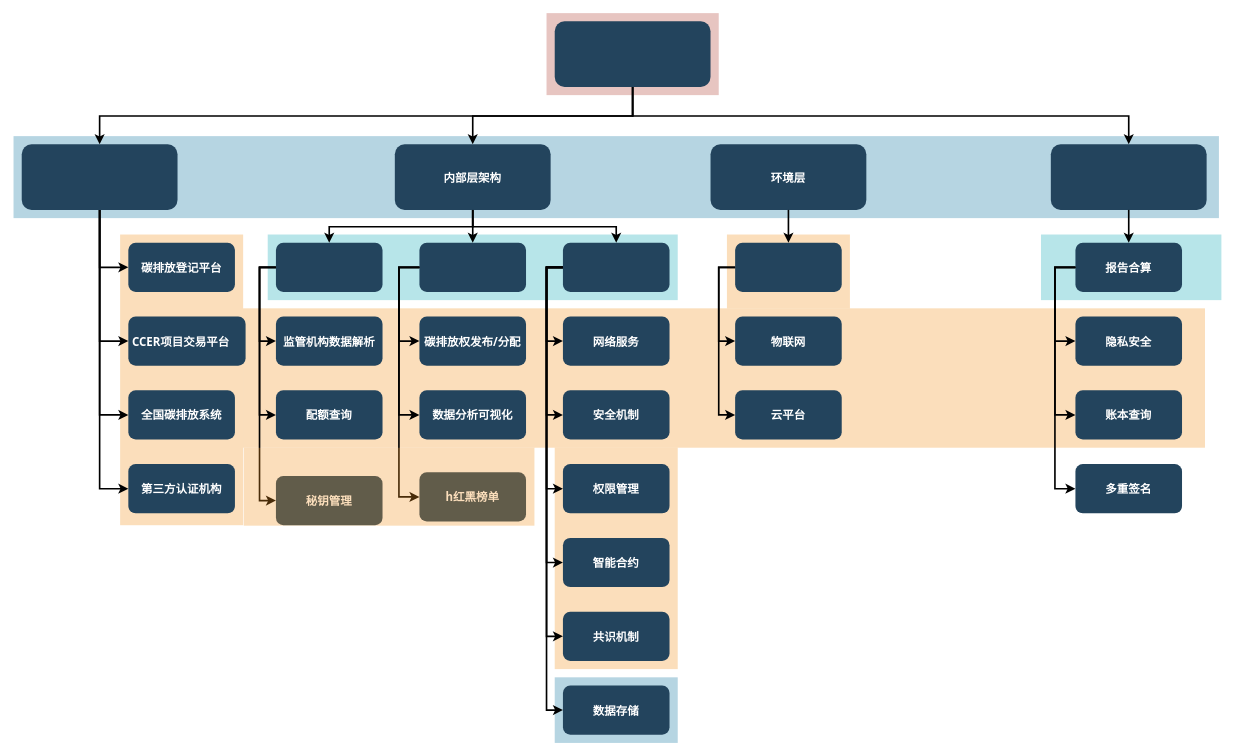
The diagram is 1235 pixels wide and 756 high, and some of its shapes have lost their labels. The shapes that lost their labels are listed below. From the top down, each one's centre as x and y in pixels, then its label:
At [632,54]: "系统架构".
At [99,177]: "应用层".
At [1128,177]: "扩展层".
At [329,267]: "应用前置层".
At [472,267]: "数据层".
At [616,267]: "区块链核心层".
At [788,267]: "互联网".
